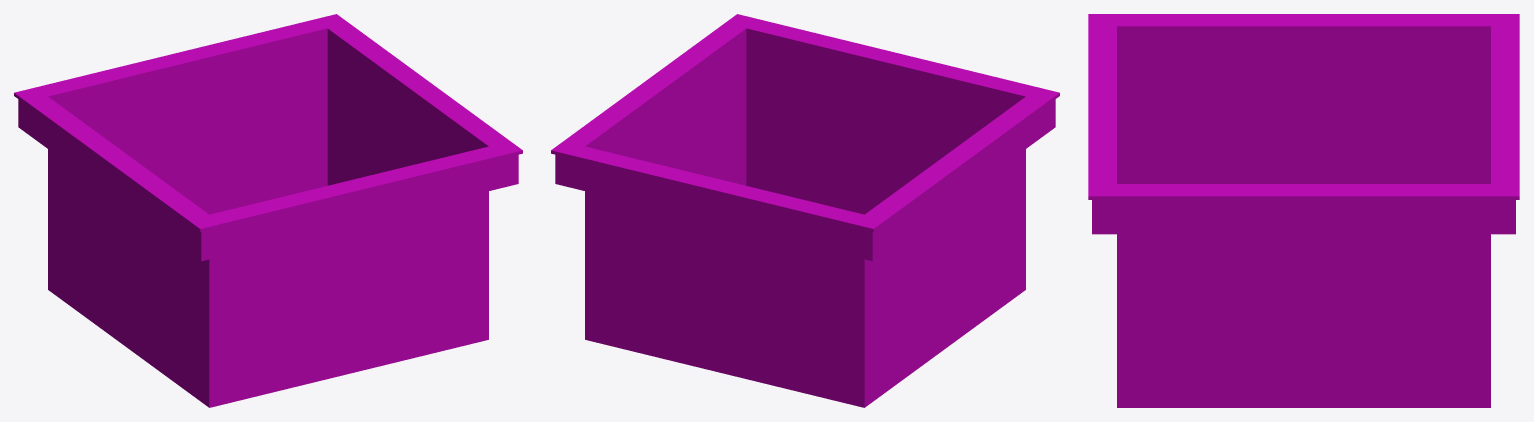
Rendered from sandbox.obj.
The picture shows the model from 3 angles, left to right: view 1: azimuth 30°, elevation 25°; view 2: azimuth 150°, elevation 25°; view 3: azimuth 270°, elevation 25°; orthographic projection. The views are drawn at different scales.
Visible parts, largest first — view 1: LowPolySandbox_Cube.019, LowPolySandbox.002_Cube.003, LowPolySandbox_extension_Cube.004, LowPolySandbox_extension.001_Cube.005; view 2: LowPolySandbox_Cube.019, LowPolySandbox_extension.001_Cube.005, LowPolySandbox.002_Cube.003, LowPolySandbox_extension_Cube.004; view 3: LowPolySandbox_Cube.019, LowPolySandbox_extension_Cube.004, LowPolySandbox.002_Cube.003, LowPolySandbox_extension.001_Cube.005.
Boxes of the visible parts, box(x1,y1,x2,y2) form: LowPolySandbox_Cube.019: box(14, 14, 522, 311); LowPolySandbox.002_Cube.003: box(48, 28, 327, 310); LowPolySandbox_extension_Cube.004: box(209, 125, 488, 407); LowPolySandbox_extension.001_Cube.005: box(48, 125, 327, 407); LowPolySandbox_Cube.019: box(551, 14, 1059, 261); LowPolySandbox_extension.001_Cube.005: box(585, 193, 1025, 407); LowPolySandbox.002_Cube.003: box(585, 149, 1025, 311); LowPolySandbox_extension_Cube.004: box(684, 125, 926, 214); LowPolySandbox_Cube.019: box(1088, 14, 1519, 295); LowPolySandbox_extension_Cube.004: box(1117, 296, 1490, 407); LowPolySandbox.002_Cube.003: box(1117, 26, 1490, 137); LowPolySandbox_extension.001_Cube.005: box(1117, 138, 1490, 183).
Bounding box in the file's own units: 28.86 × 16.52 × 28.86.
